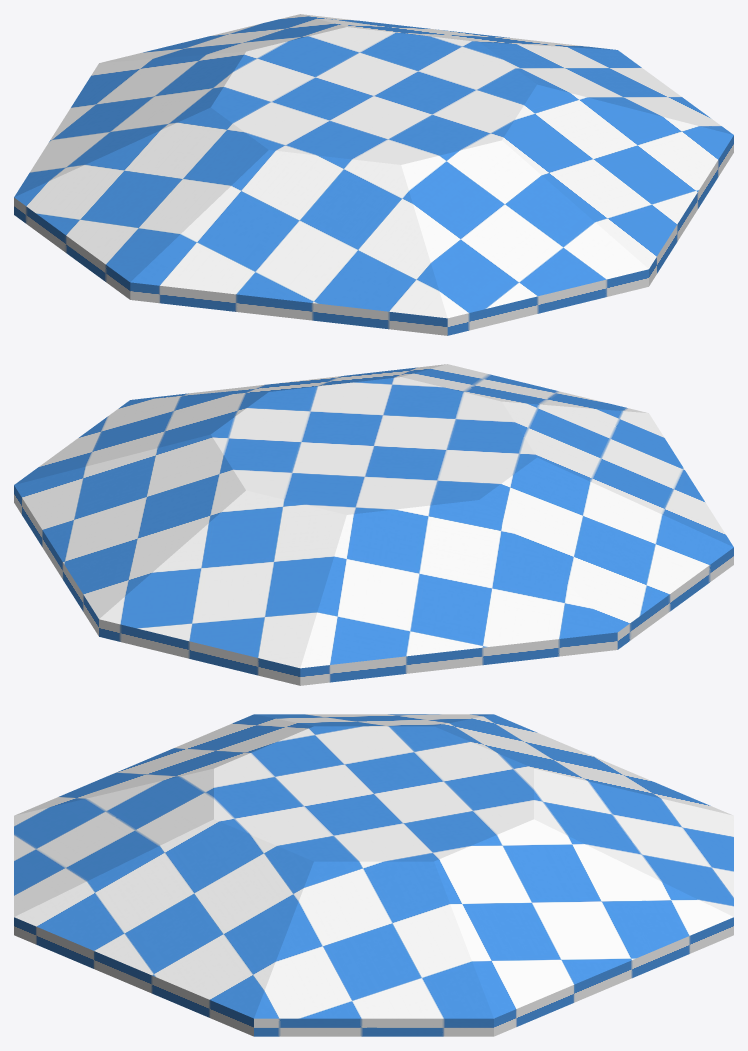
Rendered from OldSingleCutDouble.FBX.
3 renders of one model, top to bottom at view 1: azimuth 30°, elevation 25°; view 2: azimuth 150°, elevation 25°; view 3: azimuth 270°, elevation 25°, orthographic. The views are drawn at different scales.
Visible parts, largest first — view 1: OldSingleCutDouble; view 2: OldSingleCutDouble; view 3: OldSingleCutDouble.
Part boxes in pixels (<box>): OldSingleCutDouble: <box>14,14,733,335</box>; OldSingleCutDouble: <box>14,364,733,685</box>; OldSingleCutDouble: <box>14,714,733,1036</box>.
Bounding box in the file's own units: 1.14 × 0.2858 × 1.14.
